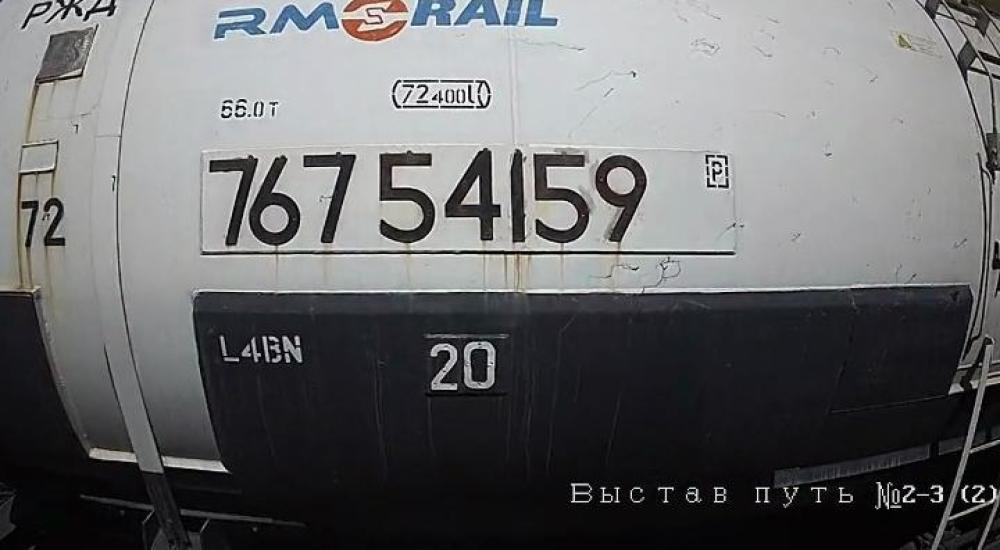Wagon-number: (208, 143, 654, 252)
